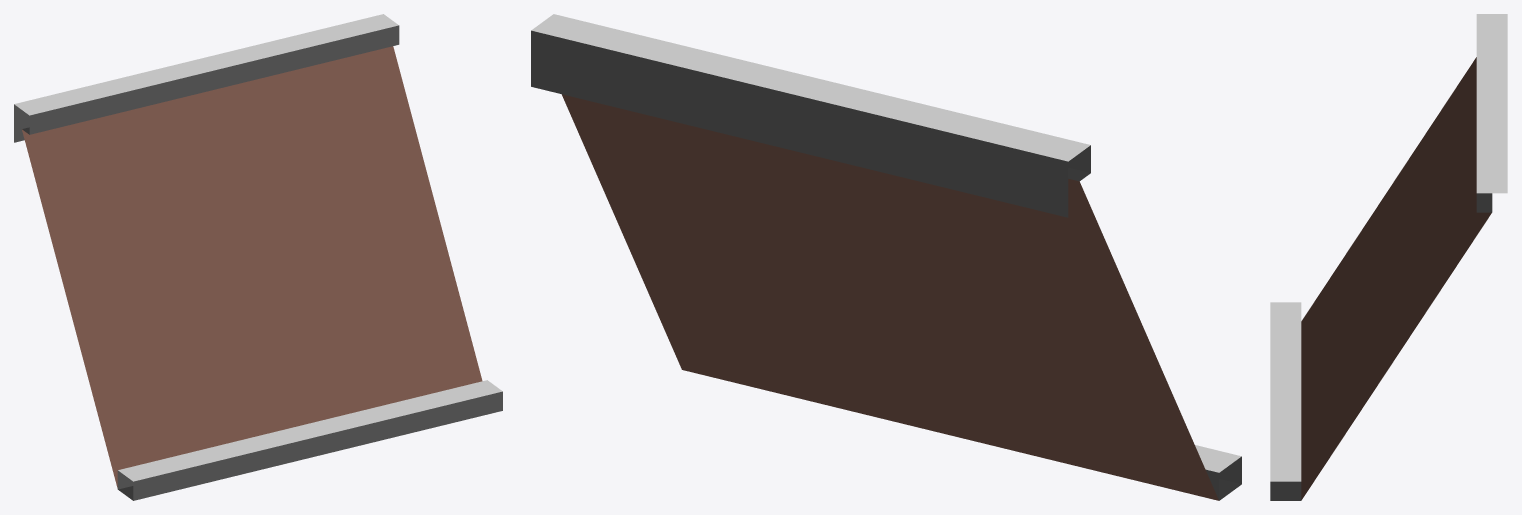
The model's file is Roof03_DarkCenter.fbx.
The picture shows the model from 3 angles, left to right: view 1: azimuth 30°, elevation 25°; view 2: azimuth 150°, elevation 25°; view 3: azimuth 270°, elevation 25°; orthographic projection. The views are drawn at different scales.
Parts seen in each view (by area): view 1: Roof03_DarkCenter; view 2: Roof03_DarkCenter; view 3: Roof03_DarkCenter.
Part boxes in pixels (bbox=[...]): Roof03_DarkCenter: bbox=[14, 14, 502, 500]; Roof03_DarkCenter: bbox=[531, 14, 1241, 500]; Roof03_DarkCenter: bbox=[1270, 14, 1507, 500].
Size of the model in its own units: 1 by 0.8 by 0.5594.
